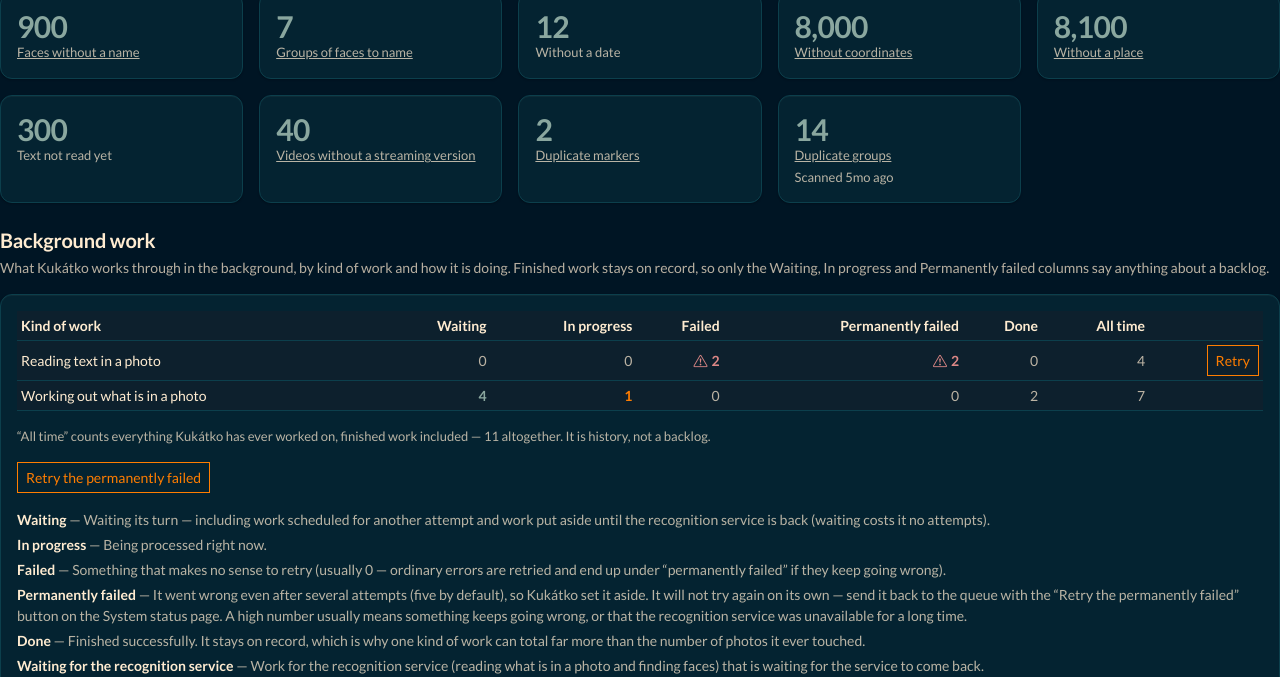
Test: SystemStatusPage › requeues the dead letter of one job type from its row
The width and height of the screenshot is (1280, 677).
(page scrolled)
Note: Only the type with a dead letter offers the action.
Click the button "Retry" at {"x": 1233, "y": 361}, box [1207, 345, 1259, 376]
(page scrolled)
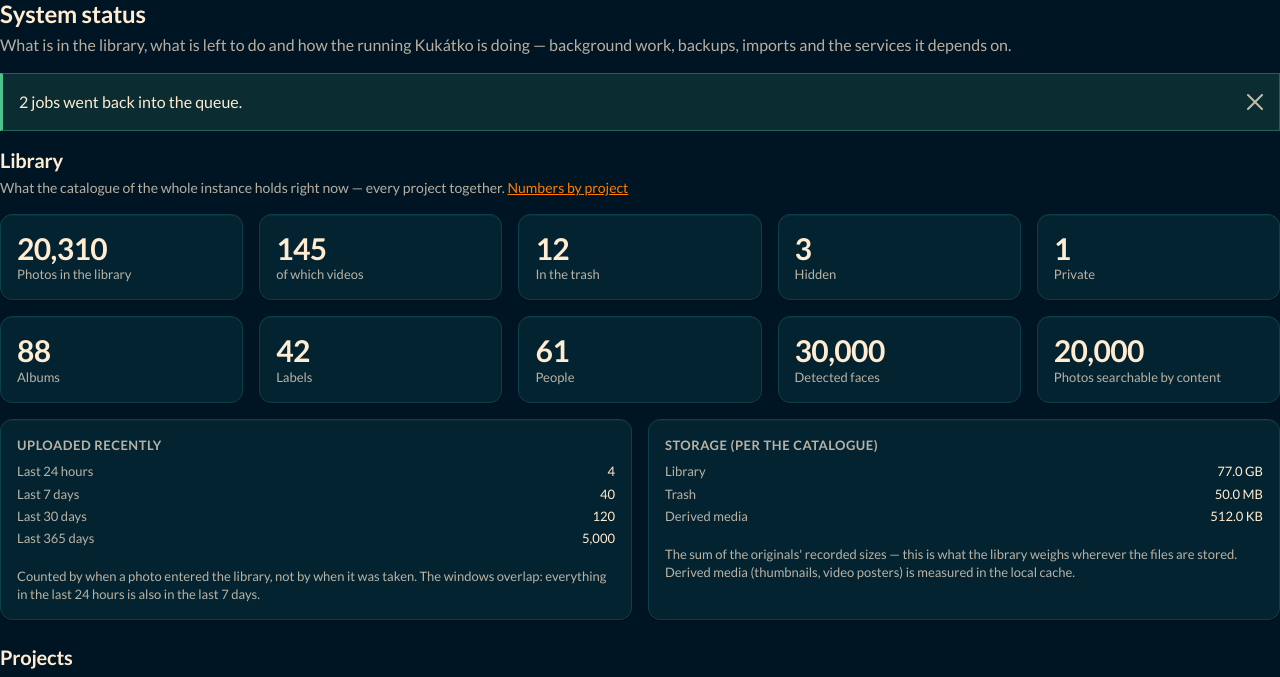
Expected: the text "2 jobs went back into the queue." is shown, [0, 73, 1279, 131]
